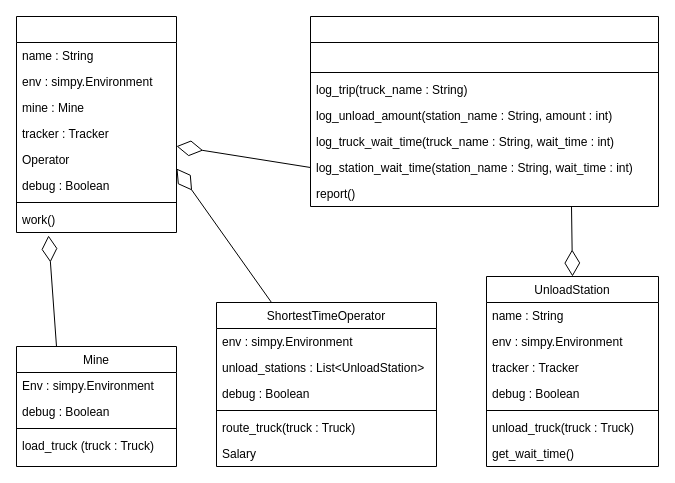
Some shapes in this 675 by 483 pixel diagram are drawn without their labels. Each missing label, with the box of its shape:
Tracker: (310, 16, 658, 206)
Truck: (16, 16, 176, 232)
